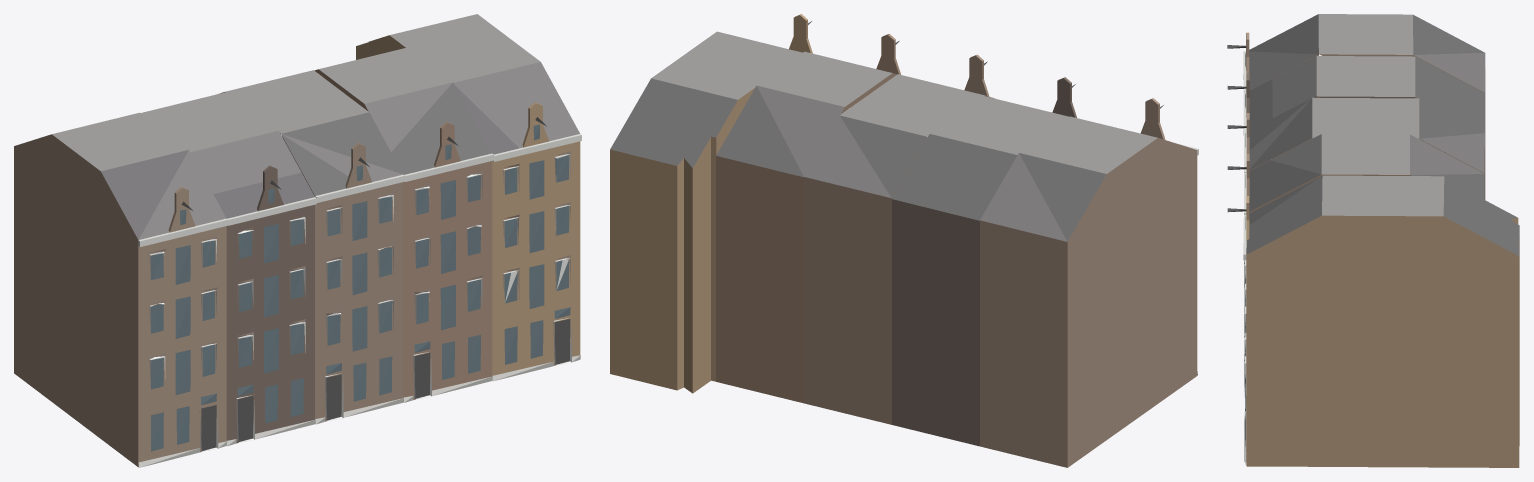
The model's file is chunk-face-bellamyplein-18-38-r1.lod2.glb.
The picture shows the model from 3 angles, left to right: view 1: azimuth 30°, elevation 25°; view 2: azimuth 150°, elevation 25°; view 3: azimuth 270°, elevation 25°; orthographic projection. The views are drawn at different scales.
Visible parts, largest first — view 1: lod2; view 2: lod2; view 3: lod2.
Boxes of the visible parts, <box> form: lod2: <box>14,14,581,467</box>; lod2: <box>610,14,1198,467</box>; lod2: <box>1227,14,1519,467</box>.
Size of the model in its own units: 27.73 by 16.05 by 16.82.
